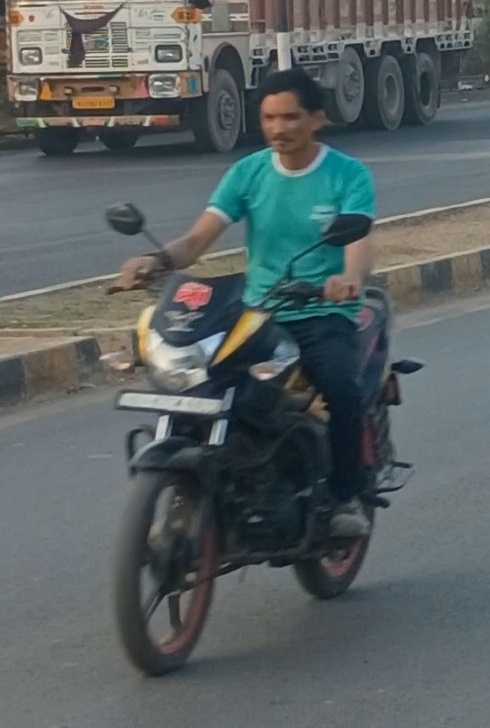BikeWithRider: (81, 62, 432, 681)
NoHelmet: (251, 63, 330, 157)
